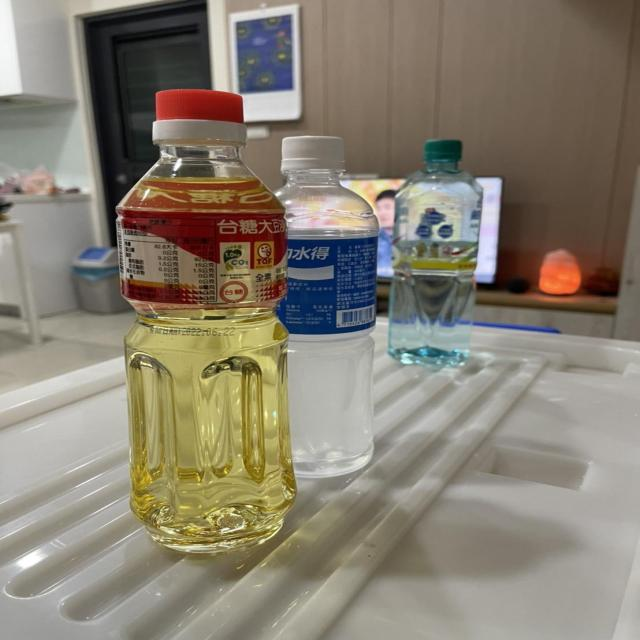bottle: (106, 82, 308, 555), (276, 125, 380, 481), (379, 128, 489, 376)
